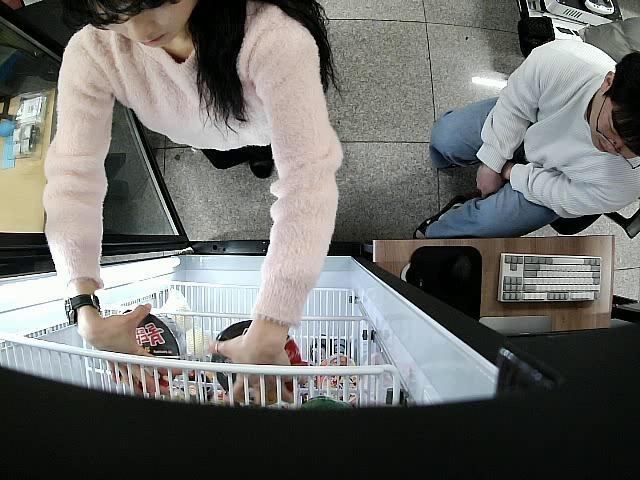07_buldak_L: (216, 324, 302, 402), (124, 303, 188, 393)
